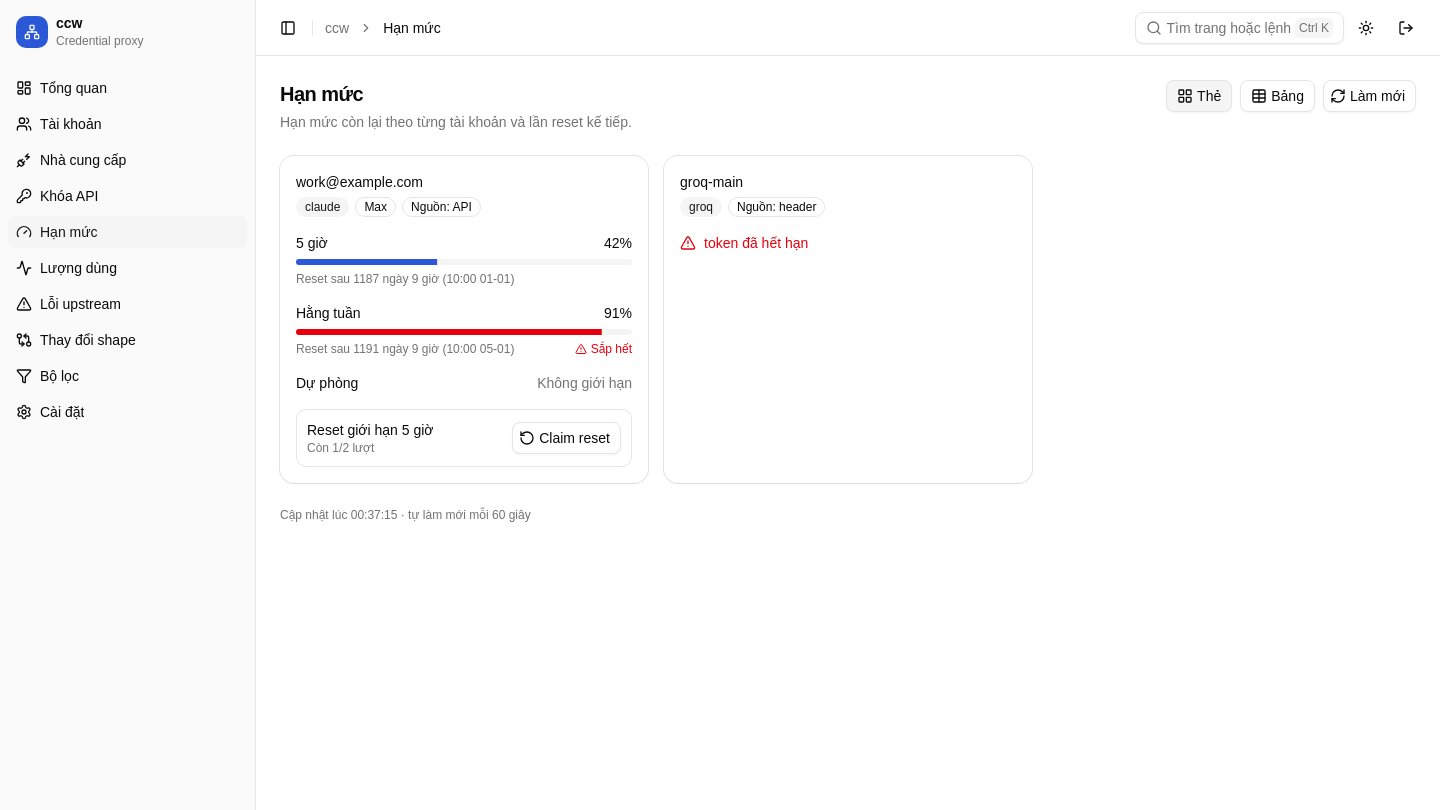
Test case: quota page › asks for confirmation, claims the reset and shows the result
The width and height of the screenshot is (1440, 810).
Check: the element "work@example.com" is shown, box [280,156,648,483]
Click the button "Claim reset". click: (567, 438)
box: [512,422,621,454]
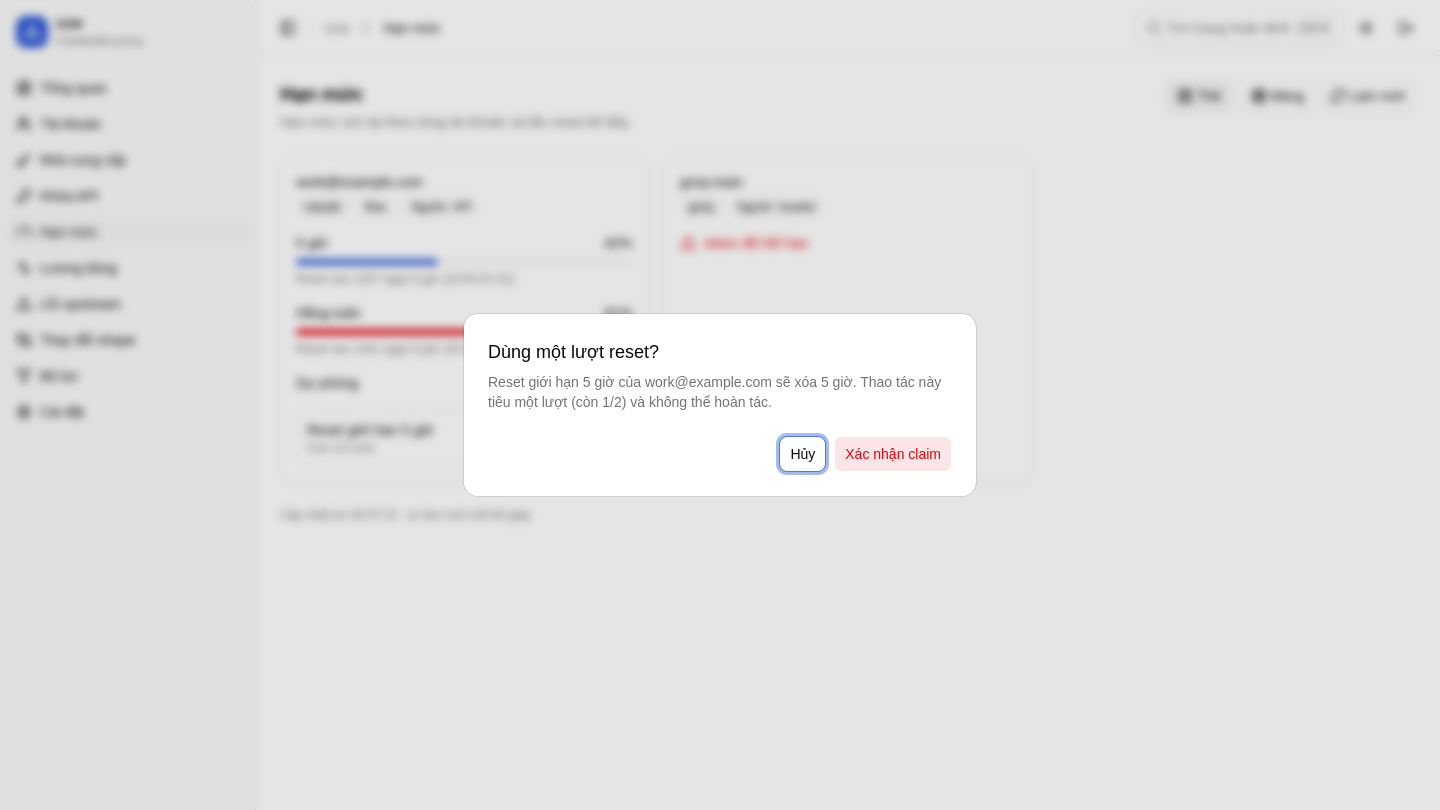
Click the button "Xác nhận claim". click: (893, 454)
box: [834,436,952,472]
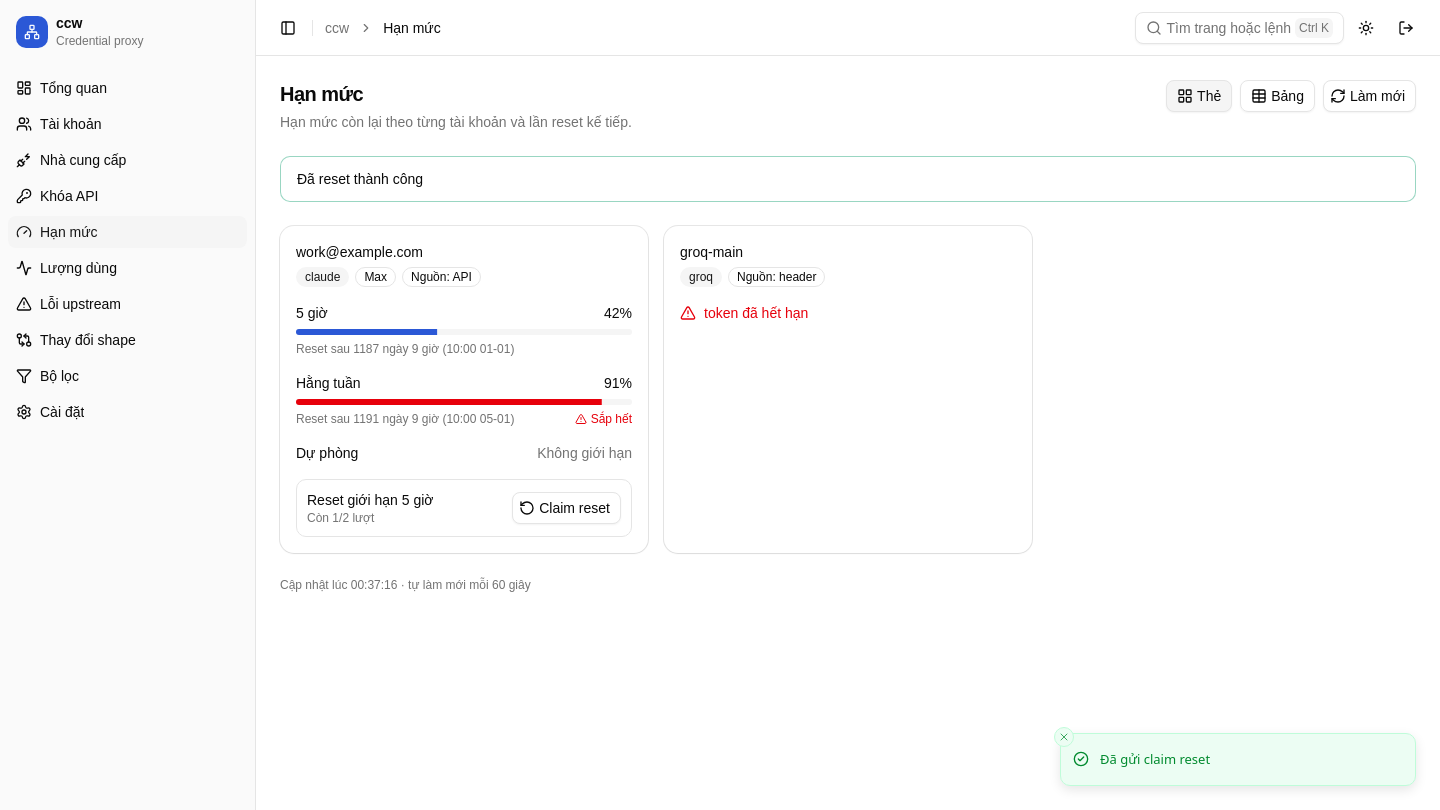
Check: the text "Đã reset thành công" is shown, box [297,171,423,187]
